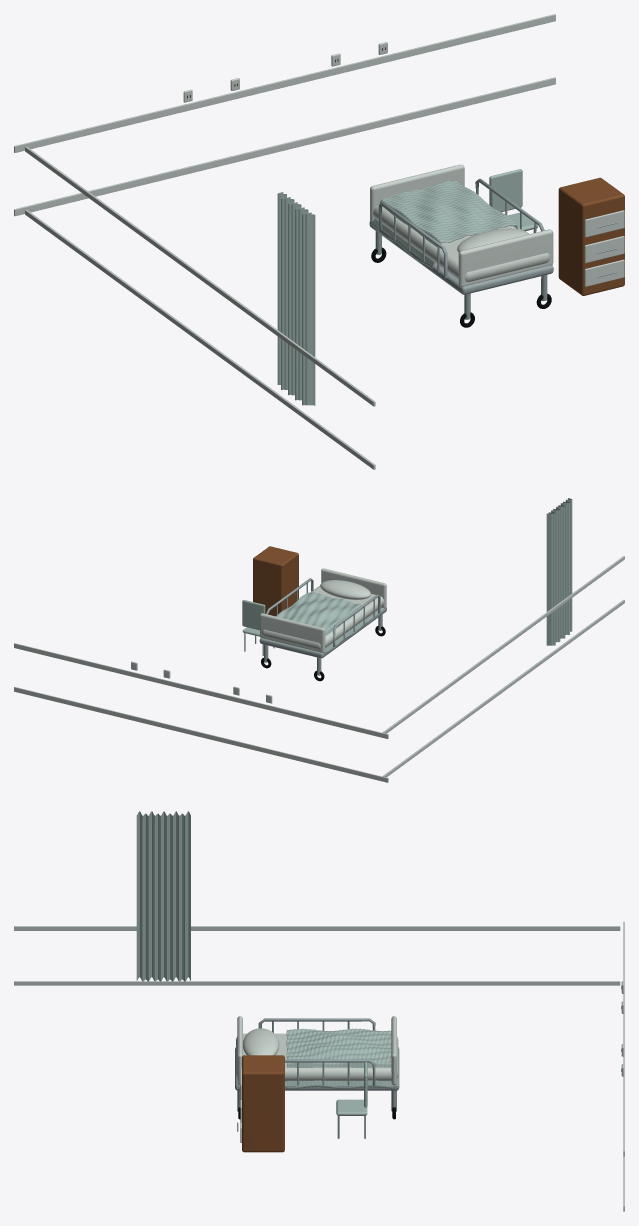
File: HospitalDetailsLit.fbx
3 renders of one model, top to bottom at view 1: azimuth 30°, elevation 25°; view 2: azimuth 150°, elevation 25°; view 3: azimuth 270°, elevation 25°, orthographic. The views are drawn at different scales.
Parts seen in each view (by area): view 1: Curtain fabric and weighted folds, Woven duvet with drape and folds, Bedside cabinet, Wall skirting.001, Wall skirting, Moulded headboard, Mattress with rounded sewn edges, Clinical wall rail.001, Clinical wall rail, Moulded headboard.001, Bed platform, Chair back (+4 smaller); view 2: Curtain fabric and weighted folds, Bedside cabinet, Woven duvet with drape and folds, Wall skirting.001, Wall skirting, Mattress with rounded sewn edges, Moulded headboard.001, Clinical wall rail, Clinical wall rail.001, Moulded headboard, Soft pillow, Bed platform (+1 smaller); view 3: Curtain fabric and weighted folds, Woven duvet with drape and folds, Bedside cabinet, Clinical wall rail, Clinical wall rail.001, Mattress with rounded sewn edges, Soft pillow, Bed platform.
Boxes of the visible parts, x1,y1,x2,y2 form: Curtain fabric and weighted folds: (277,192,315,405); Woven duvet with drape and folds: (371,181,518,269); Bedside cabinet: (558,177,624,295); Wall skirting.001: (14,14,555,152); Wall skirting: (14,77,555,216); Moulded headboard: (458,229,553,287); Mattress with rounded sewn edges: (373,204,549,281); Clinical wall rail.001: (25,146,375,406); Clinical wall rail: (25,210,375,469); Moulded headboard.001: (370,164,464,222); Bed platform: (369,221,553,294); Chair back: (489,169,522,212); Curtain fabric and weighted folds: (546,498,572,645); Bedside cabinet: (253,546,298,616); Woven duvet with drape and folds: (276,592,367,653); Wall skirting.001: (14,643,388,738); Wall skirting: (14,687,388,782); Mattress with rounded sewn edges: (262,585,384,649); Moulded headboard.001: (260,613,325,653); Clinical wall rail: (382,599,624,777); Clinical wall rail.001: (382,556,624,733); Moulded headboard: (321,568,386,608); Soft pillow: (320,580,370,599); Bed platform: (259,607,386,658); Curtain fabric and weighted folds: (136,811,190,981); Woven duvet with drape and folds: (286,1028,392,1089); Bedside cabinet: (242,1055,284,1152); Clinical wall rail: (14,981,620,985); Clinical wall rail.001: (14,926,620,930); Mattress with rounded sewn edges: (236,1033,398,1081); Soft pillow: (243,1028,279,1055); Bed platform: (235,1047,399,1090).
Size of the model in its own units: 8.6 by 3.17 by 9.67.
